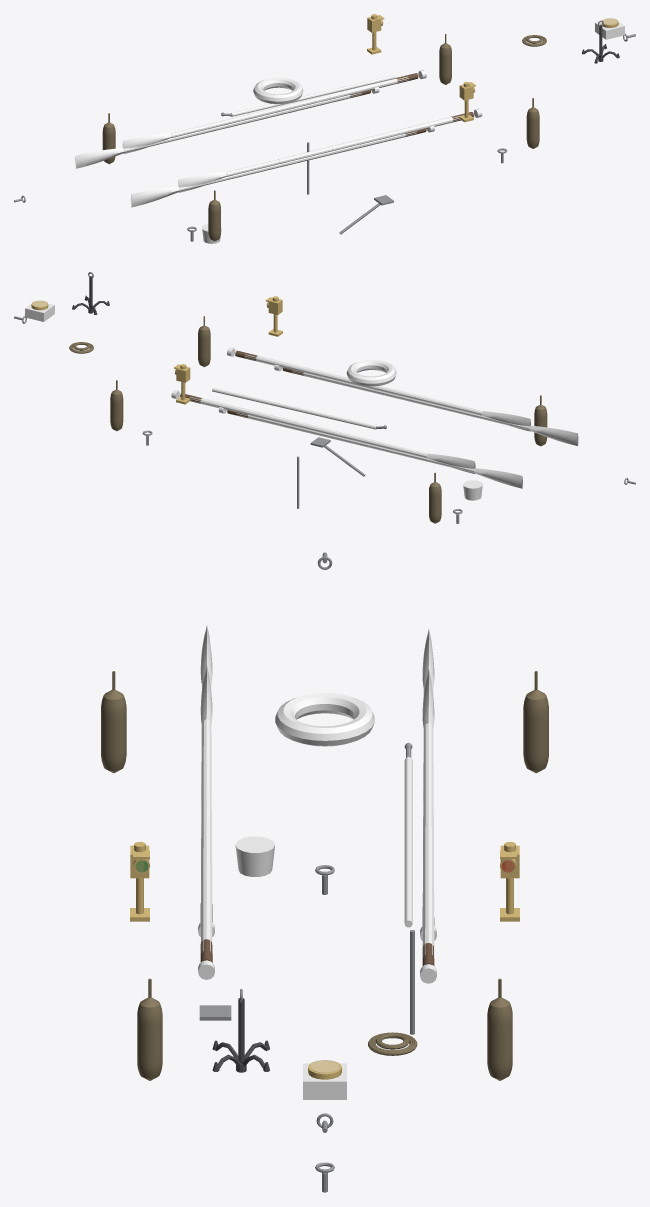
The model's file is Gear_Nav_Safety.glb.
3 views of the same model, one above another, from view 1: azimuth 30°, elevation 25°; view 2: azimuth 150°, elevation 25°; view 3: azimuth 270°, elevation 25° (orthographic). The views are drawn at different scales.
Visible parts, largest first — view 1: Gear_Nav_Safety; view 2: Gear_Nav_Safety; view 3: Gear_Nav_Safety.
Boxes of the visible parts, x1,y1,x2,y2 form: Gear_Nav_Safety: (14, 14, 635, 243); Gear_Nav_Safety: (14, 272, 635, 523); Gear_Nav_Safety: (101, 552, 548, 1192).
Bounding box in the file's own units: 7.2 × 1.6 × 2.25.
